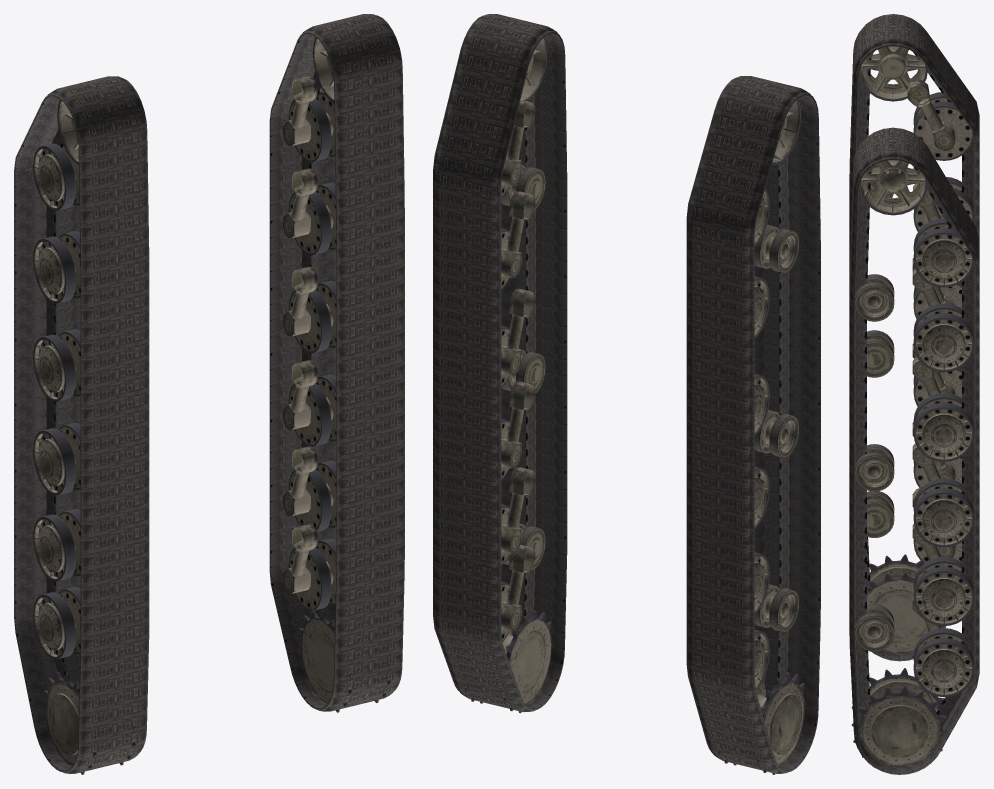
File: Chassis.glb
The picture shows the model from 3 angles, left to right: view 1: azimuth 30°, elevation 25°; view 2: azimuth 150°, elevation 25°; view 3: azimuth 270°, elevation 25°; orthographic projection. The views are drawn at different scales.
Parts seen in each view (by area): view 1: set_3_group_0, set_2_group_0, set_0_group_0, set_1_group_0; view 2: set_3_group_0, set_2_group_0, set_0_group_0, set_1_group_0; view 3: set_0_group_0, set_2_group_0, set_1_group_0, set_3_group_0.
Part boxes in pixels (x1,y1,x2,y2): set_3_group_0: [14, 76, 149, 773]; set_2_group_0: [269, 14, 404, 711]; set_0_group_0: [282, 37, 391, 712]; set_1_group_0: [33, 99, 136, 774]; set_3_group_0: [686, 76, 820, 773]; set_2_group_0: [433, 14, 567, 711]; set_0_group_0: [465, 37, 551, 713]; set_1_group_0: [715, 99, 804, 774]; set_0_group_0: [851, 160, 974, 767]; set_2_group_0: [849, 127, 979, 774]; set_1_group_0: [859, 46, 974, 653]; set_3_group_0: [849, 14, 979, 661].
Bounding box in the file's own units: 3.31 × 6.7 × 1.27.
4 materials, 4 textured.
